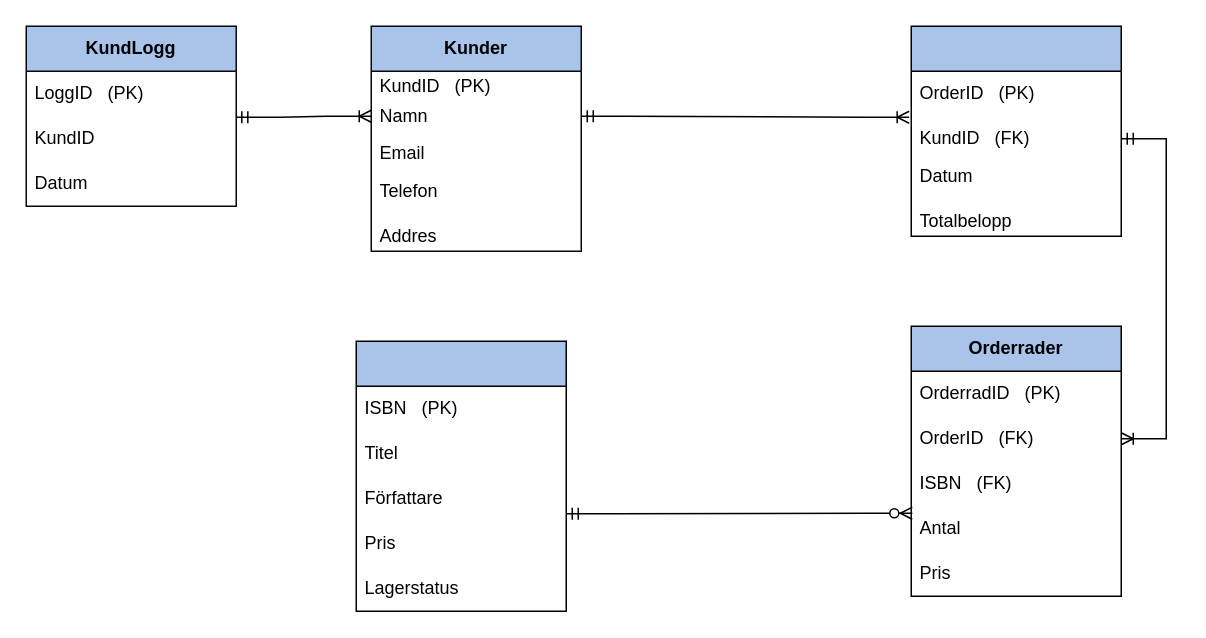
Image size: 1206x638. Some labels were removed from this diagram. The shapes that lost their labels are listed below. From the top down, each one's box as (x1, y1, x2, y2) in pixels, then its label:
(910, 25, 1121, 236): Bastallningar
(355, 340, 566, 611): Bocker
